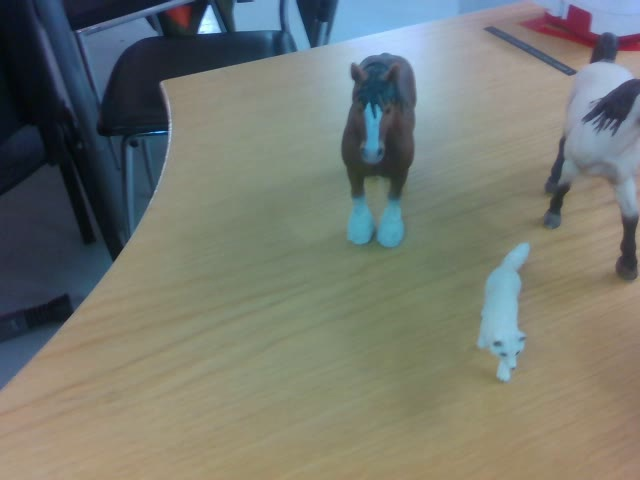toy: (341, 53, 417, 248), (477, 241, 532, 385)
